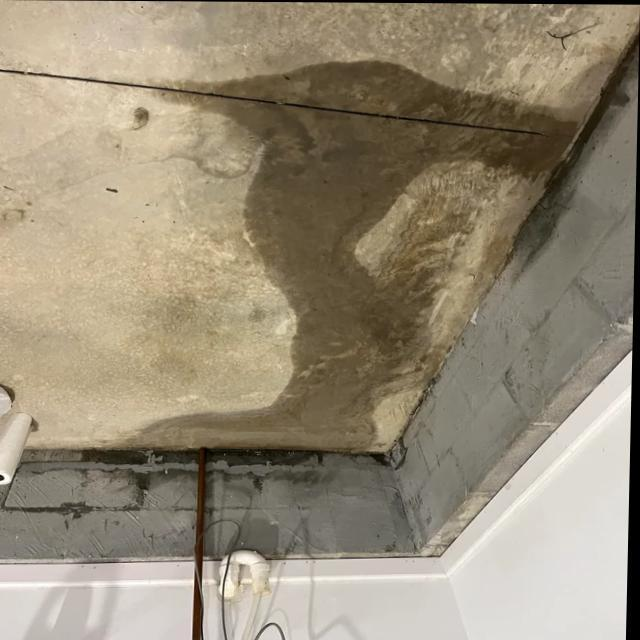water accumulation: (124, 63, 577, 462)
